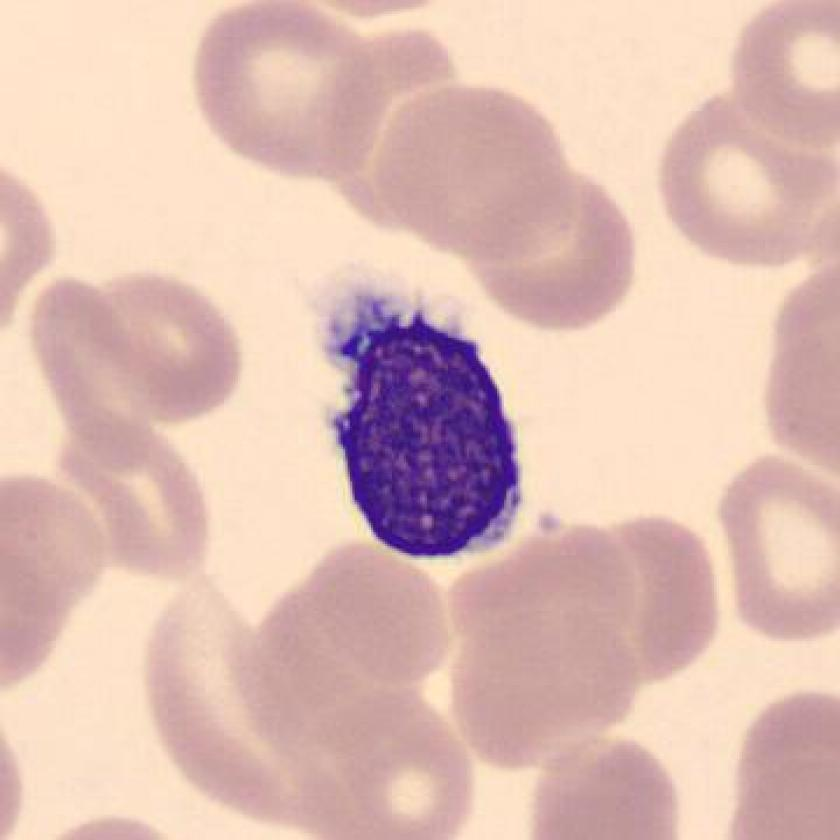lymphocyte: (300, 270, 545, 591)
